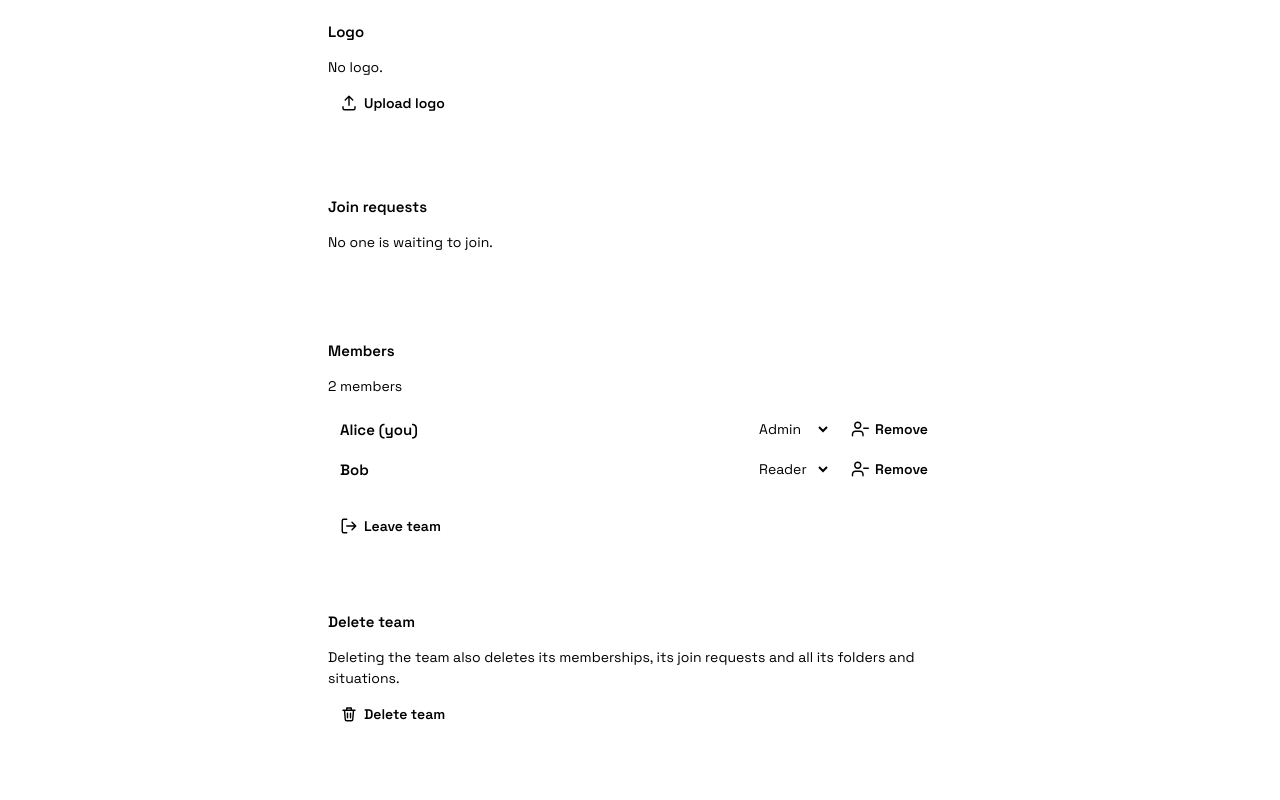
Test case: team page › shows the public view when the user lost their rights meanwhile
The image size is (1280, 800).
(page scrolled)
Step 1. Click the button with aria-label "Remove Bob" → (890, 469), box [839,460,940,478]
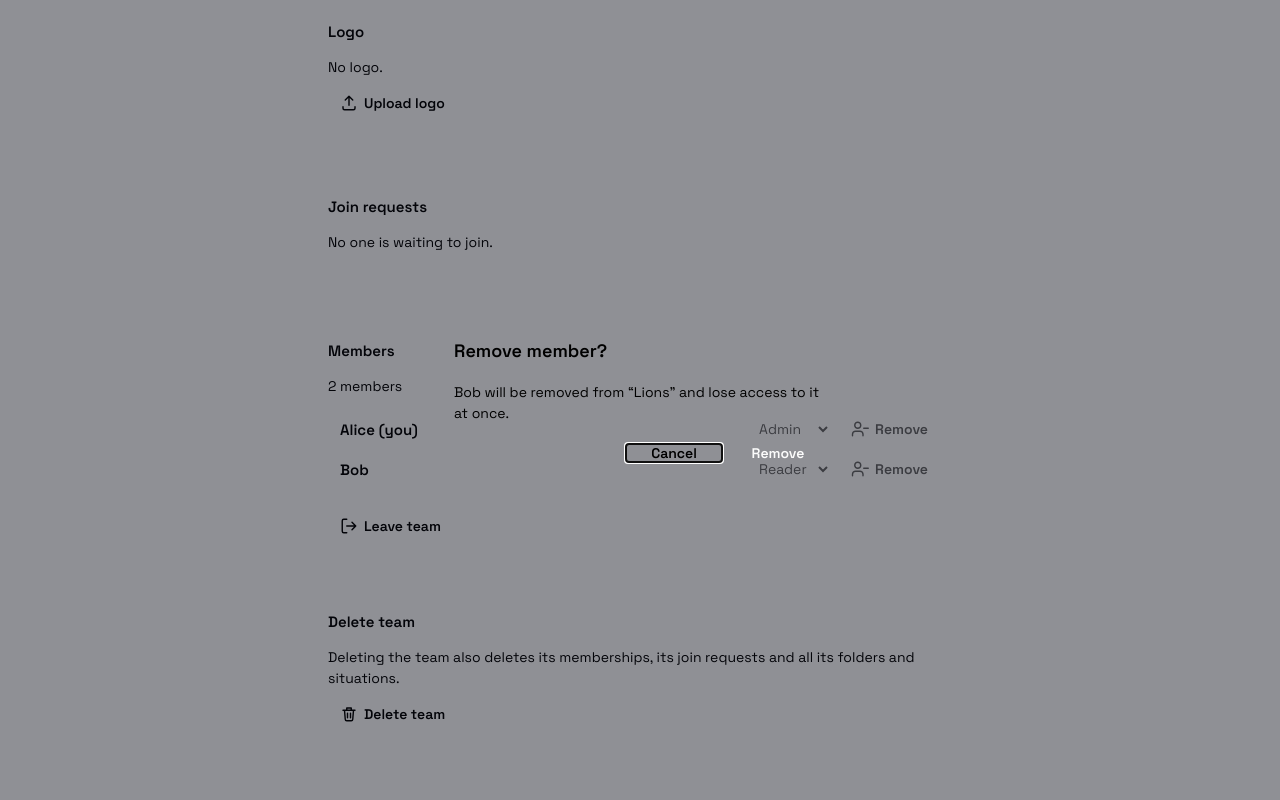
Step 2. Click the button "Remove" → (778, 452), box [730,444,826,462]
(page scrolled)
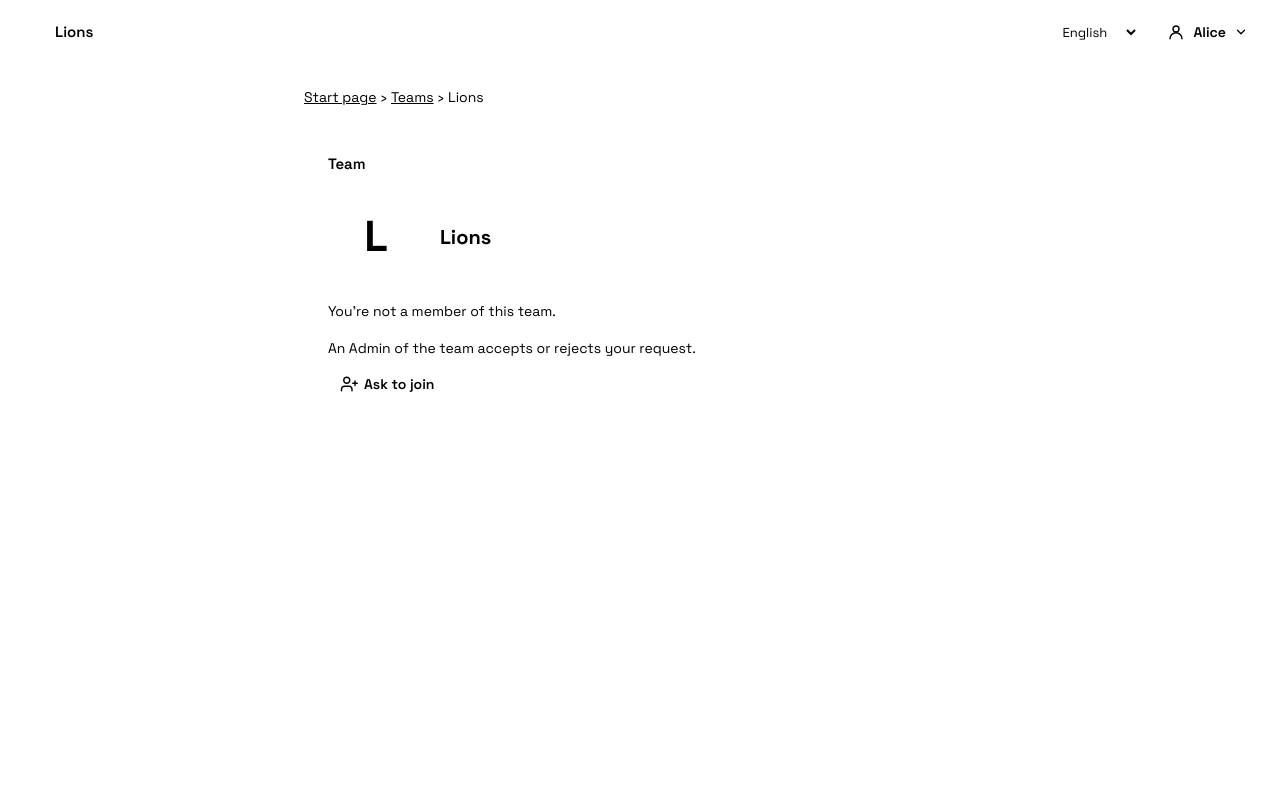
Expected: the heading "Members" is gone
Expected: the element "Team" shows "You're not a member of this team.", [328,302,556,320]
